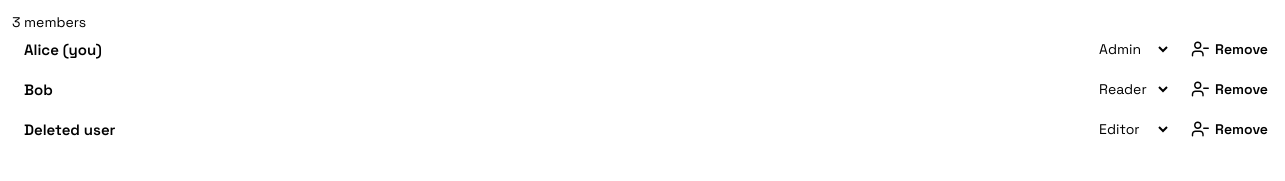
Test case: TeamMembers › shows a refused change as an alert and keeps the shown role
Select "Reader" in the dropdown named "Role of Alice (you)" in the row of "Alice (you)" at point(1129, 49), box [1087, 39, 1171, 59]
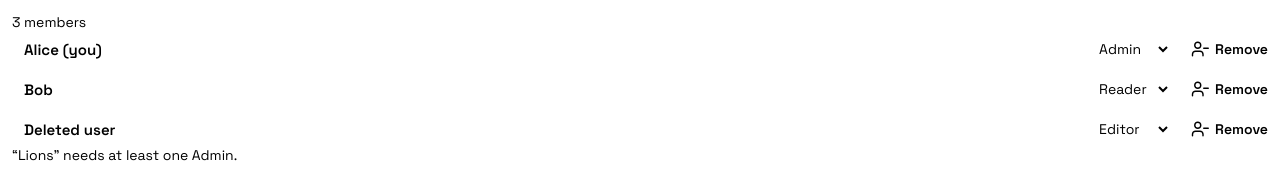
expect the message reads "“Lions” needs at least one Admin.": met, box [12, 146, 237, 164]
